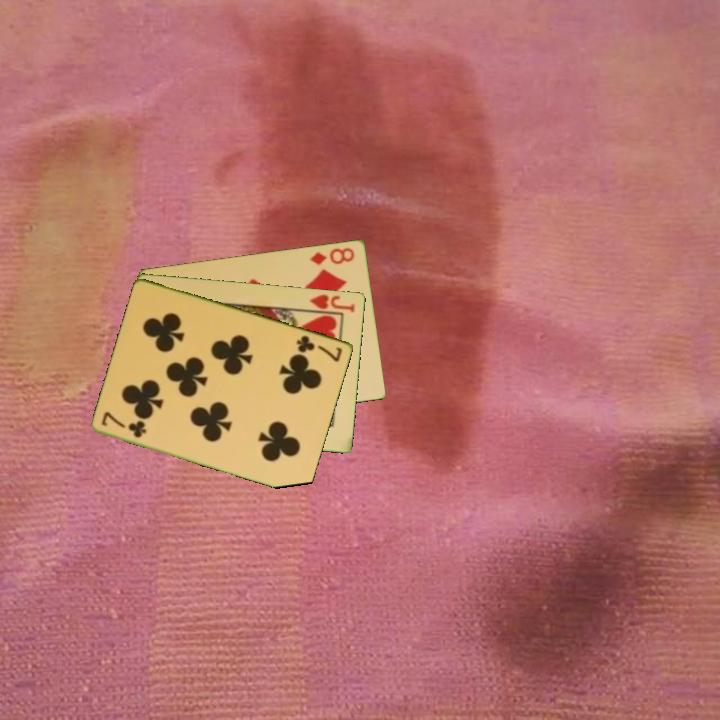7c: (98, 408, 150, 441), (293, 332, 345, 364)
8d: (307, 244, 357, 267)
Jh: (306, 290, 358, 315)
